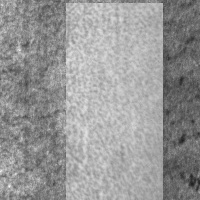crazing: (98, 58, 169, 134), (1, 76, 94, 123)
pitted_surface: (66, 3, 163, 200)
